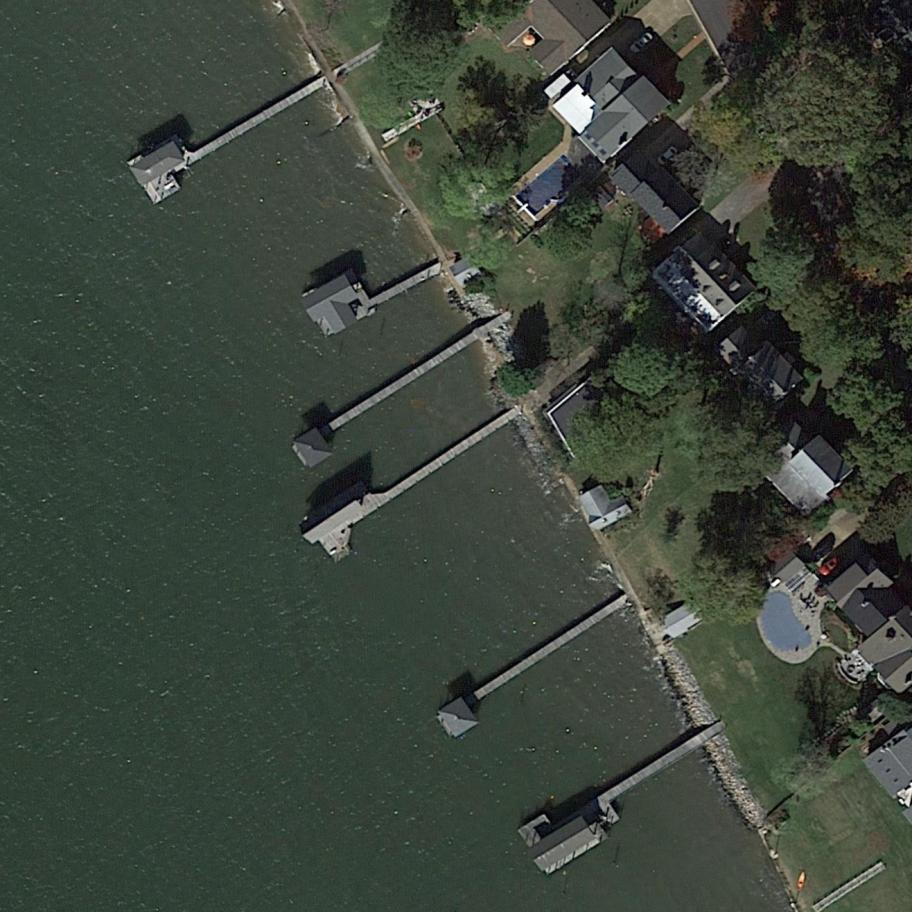ship: (797, 870, 808, 890)
small-vehicle: (806, 537, 836, 563), (818, 553, 840, 577), (631, 33, 654, 53), (657, 145, 678, 165)
